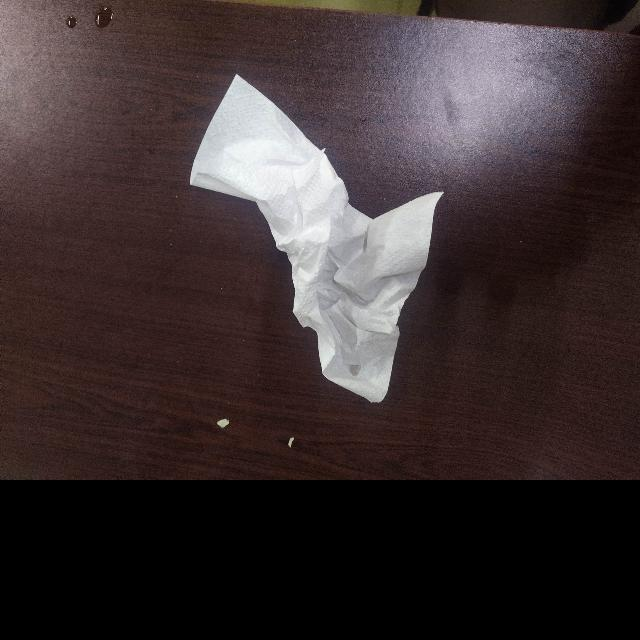kitchen paper: (182, 65, 456, 414)
